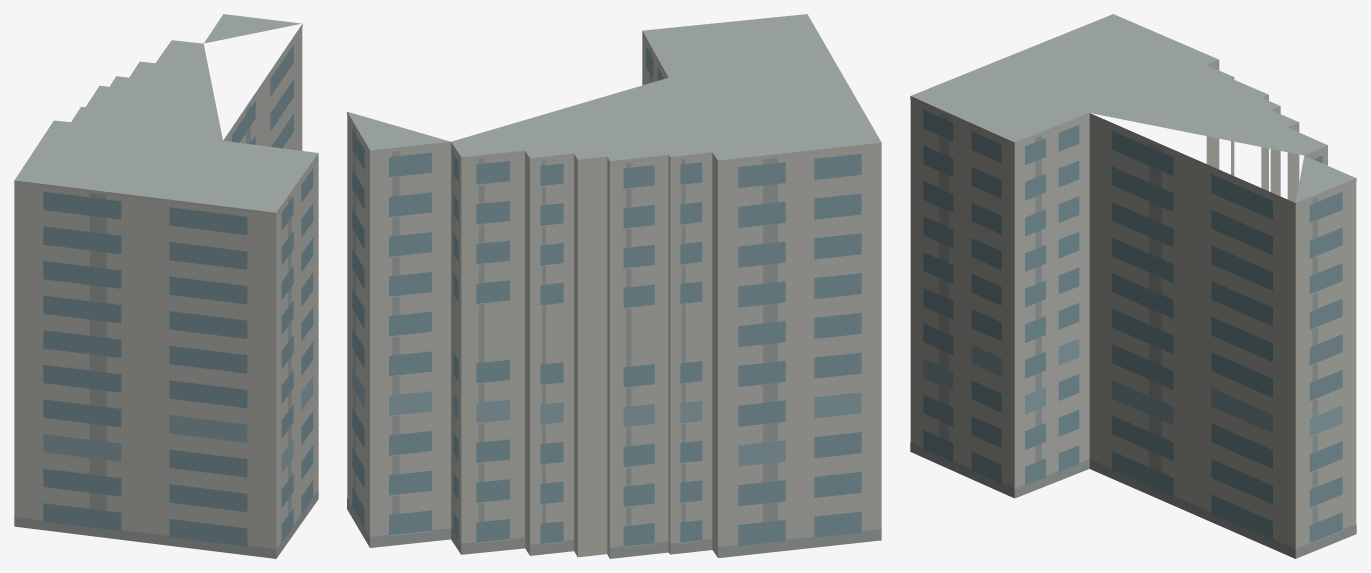
Rendered from survey-upis-32693208.glb.
3 renders of one model, left to right at view 1: azimuth 30°, elevation 25°; view 2: azimuth 150°, elevation 25°; view 3: azimuth 270°, elevation 25°, orthographic. The views are drawn at different scales.
Visible parts, largest first — view 1: survey-upis-32693208.tmp; view 2: survey-upis-32693208.tmp; view 3: survey-upis-32693208.tmp.
Boxes of the visible parts, left/top/right/bottom form: survey-upis-32693208.tmp: left=14, top=14, right=318, bottom=558; survey-upis-32693208.tmp: left=347, top=14, right=881, bottom=558; survey-upis-32693208.tmp: left=910, top=14, right=1356, bottom=558.
Size of the model in its own units: 29.28 by 25.7 by 29.19.
